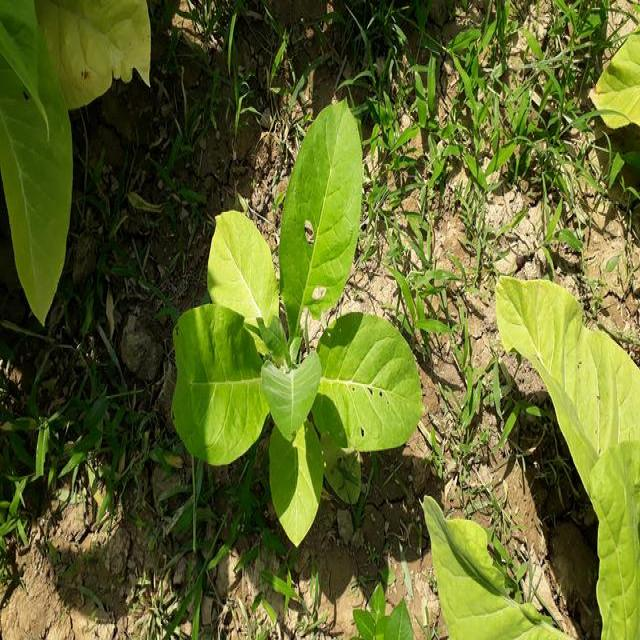crop: (142, 92, 432, 560)
